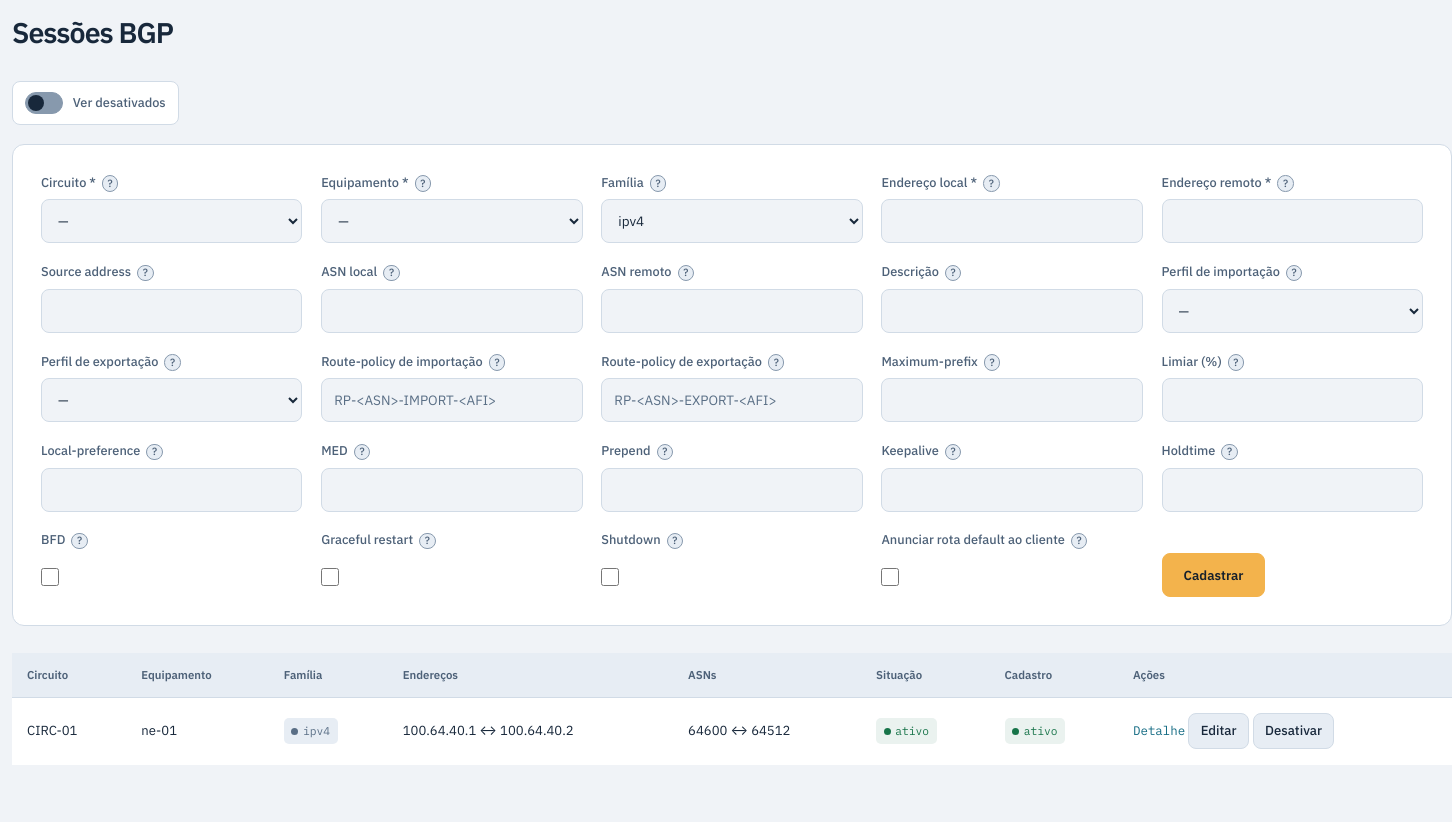
Test: BgpSessions › autopreenche equipamento, ASN local/remoto e o par v4 ao escolher o circuito
Expected: the text "100.64.40.1 ↔ 100.64.40.2" is shown, [388, 697, 673, 765]
Select "CIRC-01" in the dropdown labelled "Circuito * ?" at (172, 221), box [41, 199, 302, 243]
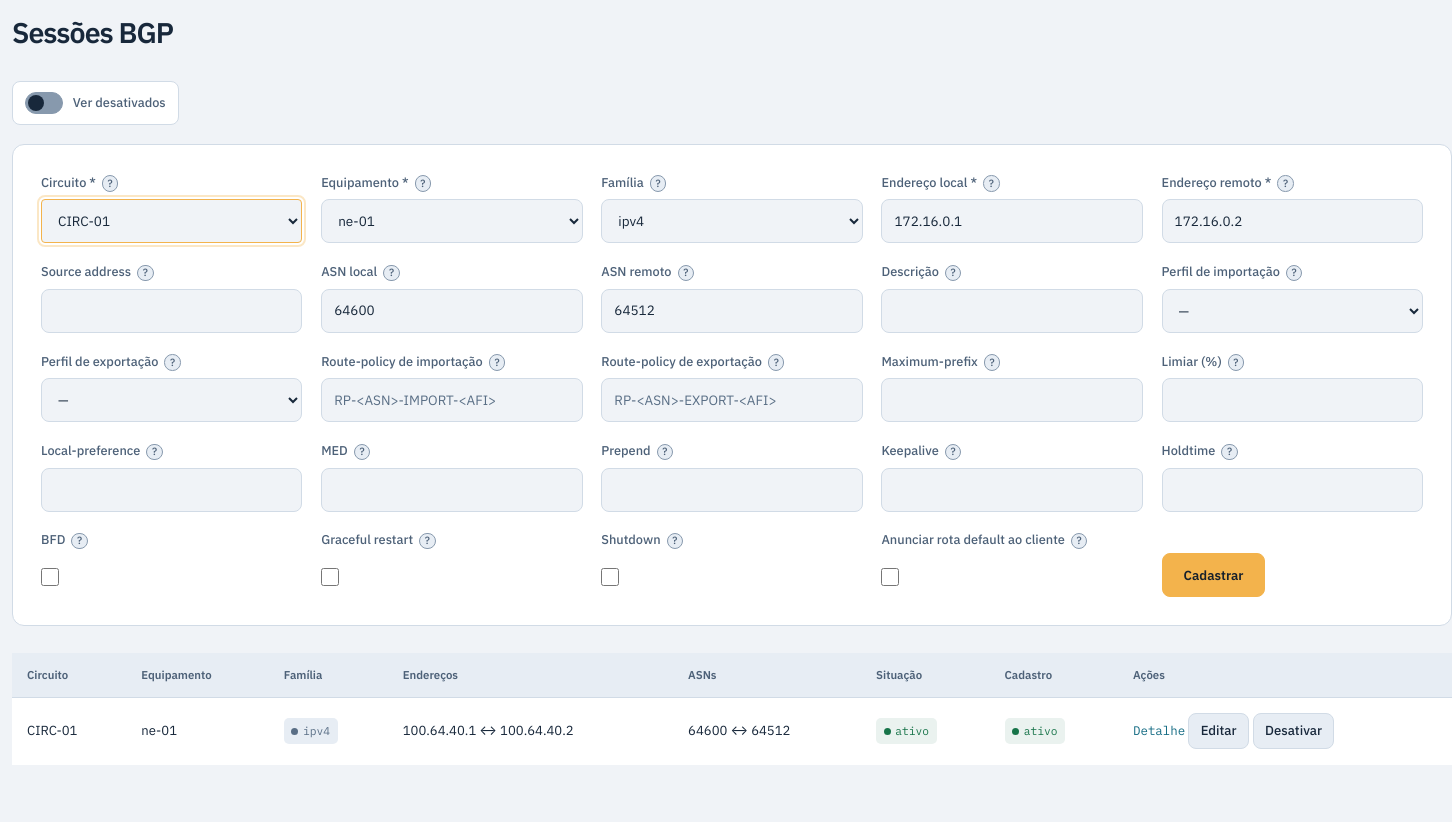
Now the dropdown labelled "Equipamento * ?" shows "ne-01", box [321, 199, 582, 243]
Now the number field labelled "ASN local ?" holds "64600", box [321, 289, 582, 333]
Now the number field labelled "ASN remoto ?" holds "64512", box [601, 289, 863, 333]
